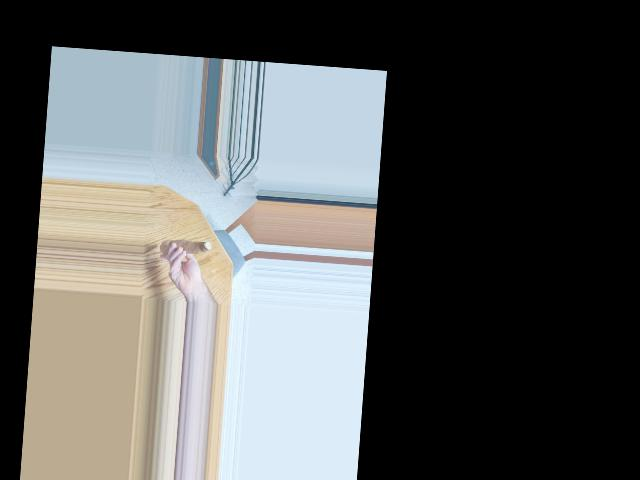sweet_potato: (168, 239, 213, 253)
